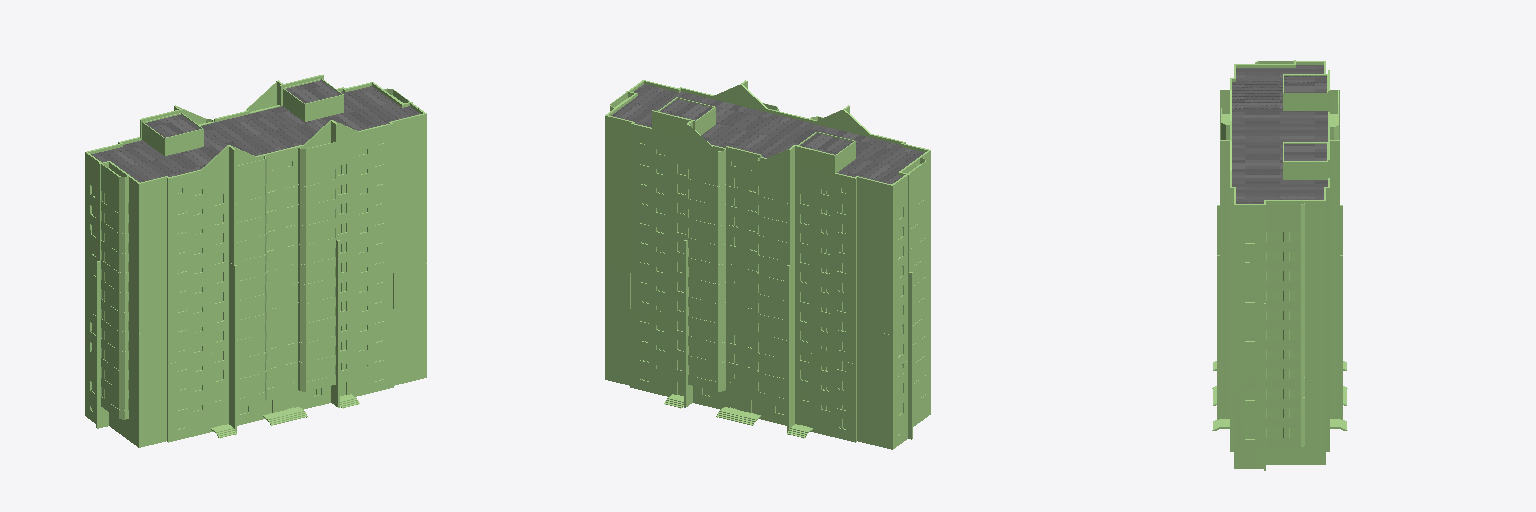
3 renders of one model, left to right at view 1: azimuth 30°, elevation 25°; view 2: azimuth 150°, elevation 25°; view 3: azimuth 270°, elevation 25°, orthographic.
Parts seen in each view (by area): view 1: House; view 2: House; view 3: House.
Part boxes in pixels (bbox=[...]): House: bbox=[85, 75, 426, 447]; House: bbox=[605, 80, 930, 449]; House: bbox=[1212, 60, 1347, 470].
Size of the model in its own units: 48.68 by 43.16 by 18.78.
2 materials, 1 textured.